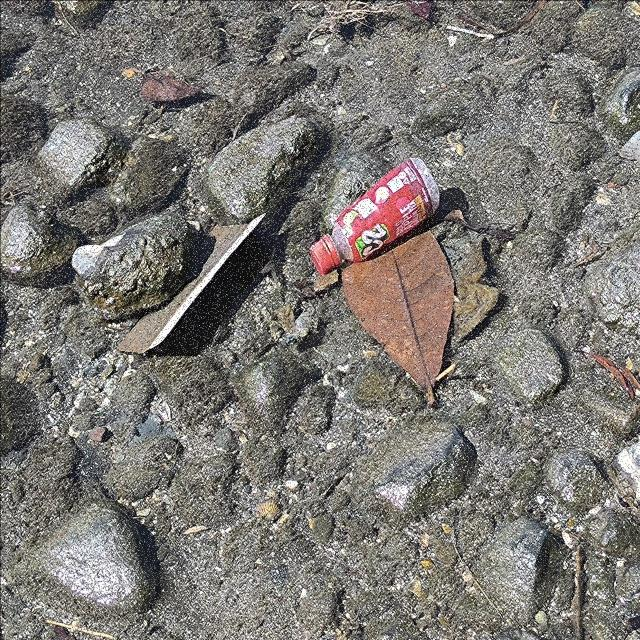plastic_waste: (310, 156, 442, 276)
